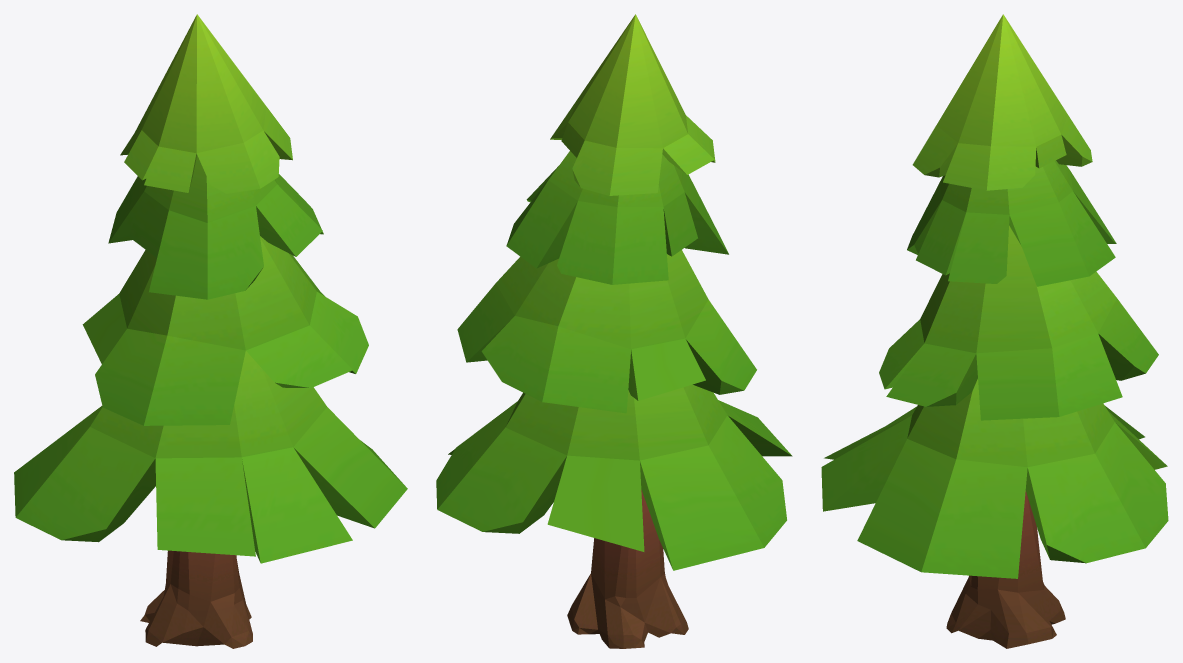
3 renders of one model, left to right at view 1: azimuth 30°, elevation 25°; view 2: azimuth 150°, elevation 25°; view 3: azimuth 270°, elevation 25°, orthographic.
Visible parts, largest first — view 1: Tree1; view 2: Tree1; view 3: Tree1.
Part boxes in pixels (x1,y1,x2,y2): Tree1: (14,14,407,648); Tree1: (436,14,792,648); Tree1: (821,14,1168,648).
Bounding box in the file's own units: 5.17 × 9.02 × 4.67.
1 material, 1 textured.
